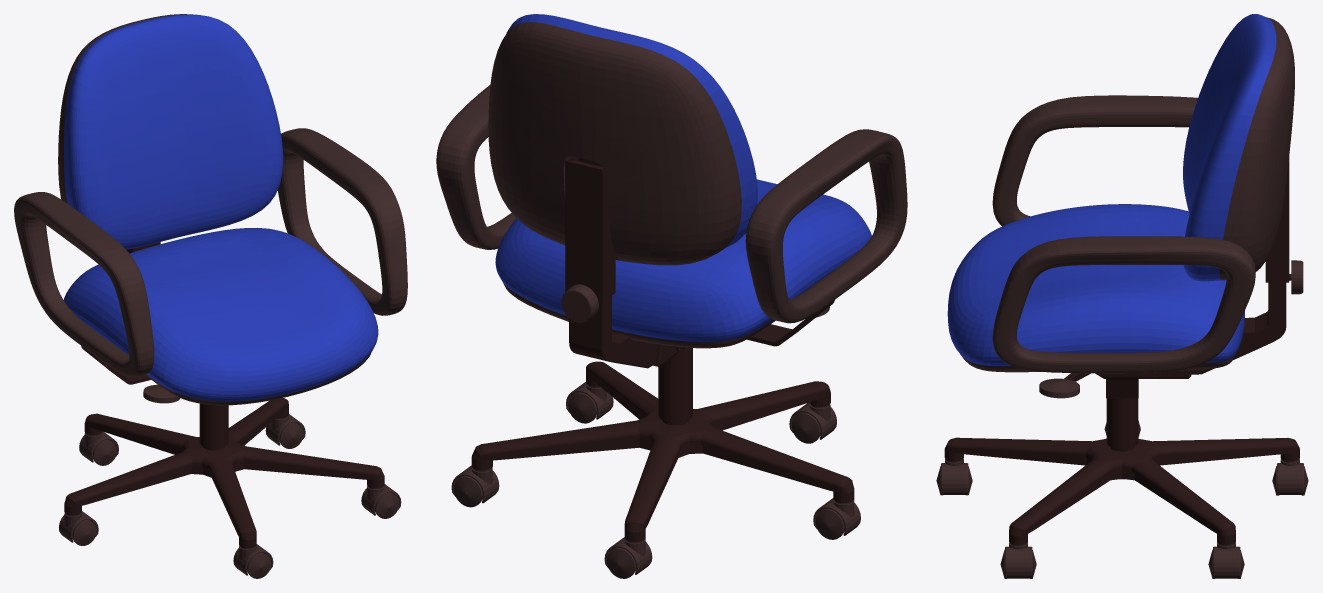
The model's file is office-chair.obj.
3 views of the same model, side by side, from view 1: azimuth 30°, elevation 25°; view 2: azimuth 150°, elevation 25°; view 3: azimuth 270°, elevation 25° (orthographic). The views are drawn at different scales.
Parts seen in each view (by area): view 1: Office_CH_back, Office_CH_seat, Office_CH_arms, Office_CH_base, Office_CH_wheels, Office_CH_post; view 2: Office_CH_back, Office_CH_seat, Office_CH_arms, Office_CH_base, Office_CH_back_post, Office_CH_wheels, Office_CH_post, Office_CH_mount, Office_CH_knobs; view 3: Office_CH_seat, Office_CH_arms, Office_CH_back, Office_CH_base, Office_CH_wheels, Office_CH_back_post, Office_CH_post, Office_CH_knobs, Office_CH_mount.
Boxes of the visible parts, x1,y1,x2,y2 form: Office_CH_back: (58, 14, 283, 249); Office_CH_seat: (64, 227, 378, 405); Office_CH_arms: (14, 128, 407, 376); Office_CH_base: (64, 398, 384, 548); Office_CH_wheels: (59, 414, 401, 578); Office_CH_post: (199, 403, 228, 450); Office_CH_back: (488, 14, 757, 265); Office_CH_seat: (495, 179, 871, 348); Office_CH_arms: (436, 85, 907, 323); Office_CH_base: (471, 361, 854, 541); Office_CH_back_post: (565, 156, 657, 368); Office_CH_wheels: (451, 382, 860, 578); Office_CH_post: (658, 347, 692, 425); Office_CH_mount: (653, 300, 834, 366); Office_CH_knobs: (561, 284, 829, 322); Office_CH_seat: (947, 204, 1244, 372); Office_CH_arms: (992, 95, 1255, 373); Office_CH_back: (1183, 14, 1294, 281); Office_CH_base: (944, 437, 1299, 545); Office_CH_wheels: (936, 420, 1308, 578); Office_CH_back_post: (1190, 156, 1289, 374); Office_CH_post: (1106, 398, 1138, 479); Office_CH_knobs: (1039, 260, 1303, 398); Office_CH_mount: (1095, 370, 1191, 398).
Size of the model in its own units: 8.41 by 11.88 by 8.41.
